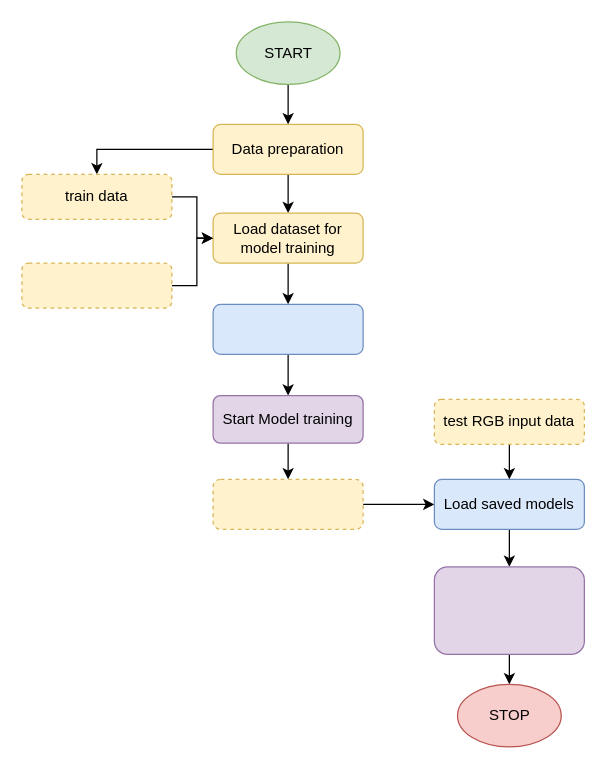
Some shapes in this 606 by 769 pixel diagram are drawn without their labels. Each missing label, with the box of its shape:
Load model configs: (212, 303, 363, 354)
predict/generate hyperspectral data for given RGB input: (433, 566, 584, 654)
save models: (212, 478, 363, 529)
validation data: (21, 262, 172, 308)
